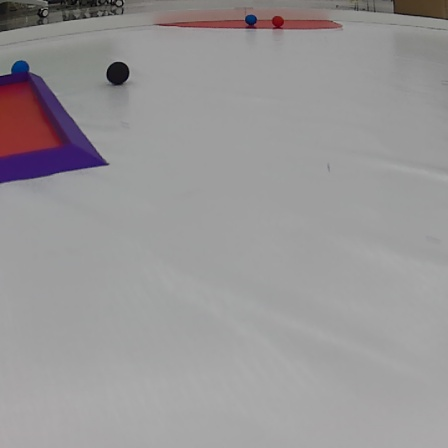black: (103, 59, 134, 88)
blue: (6, 58, 32, 74), (244, 12, 260, 26)
red: (268, 15, 287, 26)
red_aim: (0, 66, 109, 190)
red_base: (151, 15, 350, 31)
